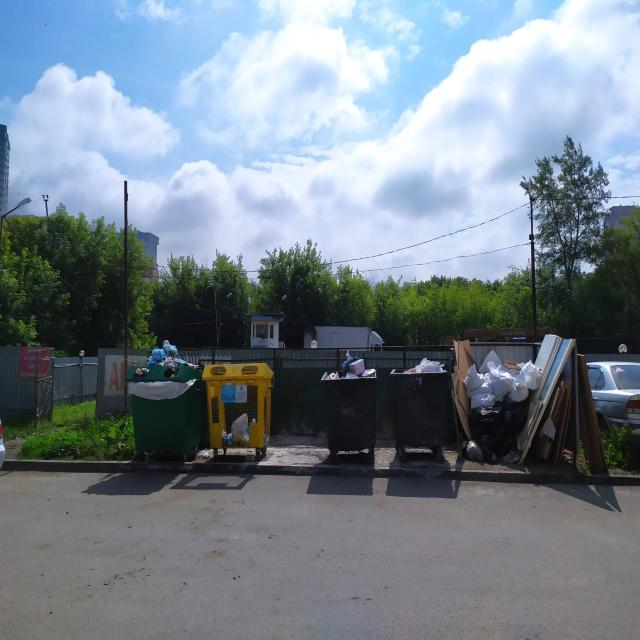bin: (201, 367, 271, 462), (129, 365, 199, 459), (389, 374, 448, 460), (320, 382, 377, 460)
plastic: (446, 329, 609, 472), (319, 351, 377, 379), (145, 340, 195, 363), (391, 354, 447, 372)
